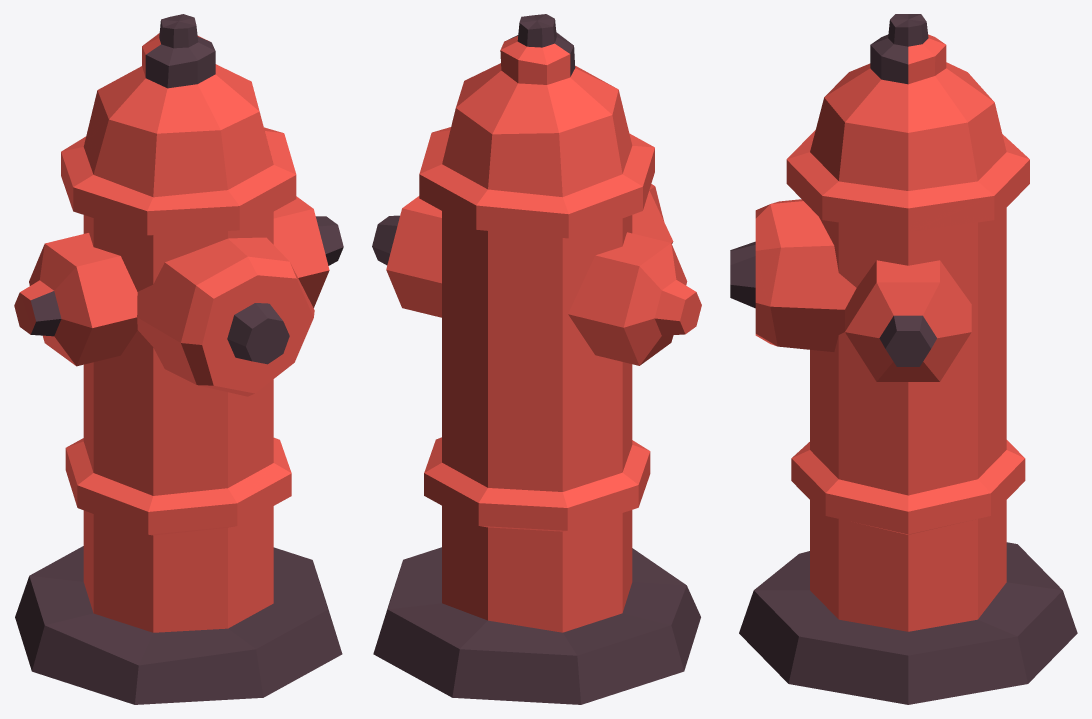
Rendered from Hydrant.fbx.
3 renders of one model, left to right at view 1: azimuth 30°, elevation 25°; view 2: azimuth 150°, elevation 25°; view 3: azimuth 270°, elevation 25°, orthographic.
Visible parts, largest first — view 1: SM_Prop_Hydrant_01; view 2: SM_Prop_Hydrant_01; view 3: SM_Prop_Hydrant_01.
Boxes of the visible parts, box(x1,y1,x2,y2) form: SM_Prop_Hydrant_01: box(14, 14, 343, 704); SM_Prop_Hydrant_01: box(372, 14, 701, 704); SM_Prop_Hydrant_01: box(730, 14, 1077, 704).
Size of the model in its own units: 0.5512 by 1.05 by 0.5404.
